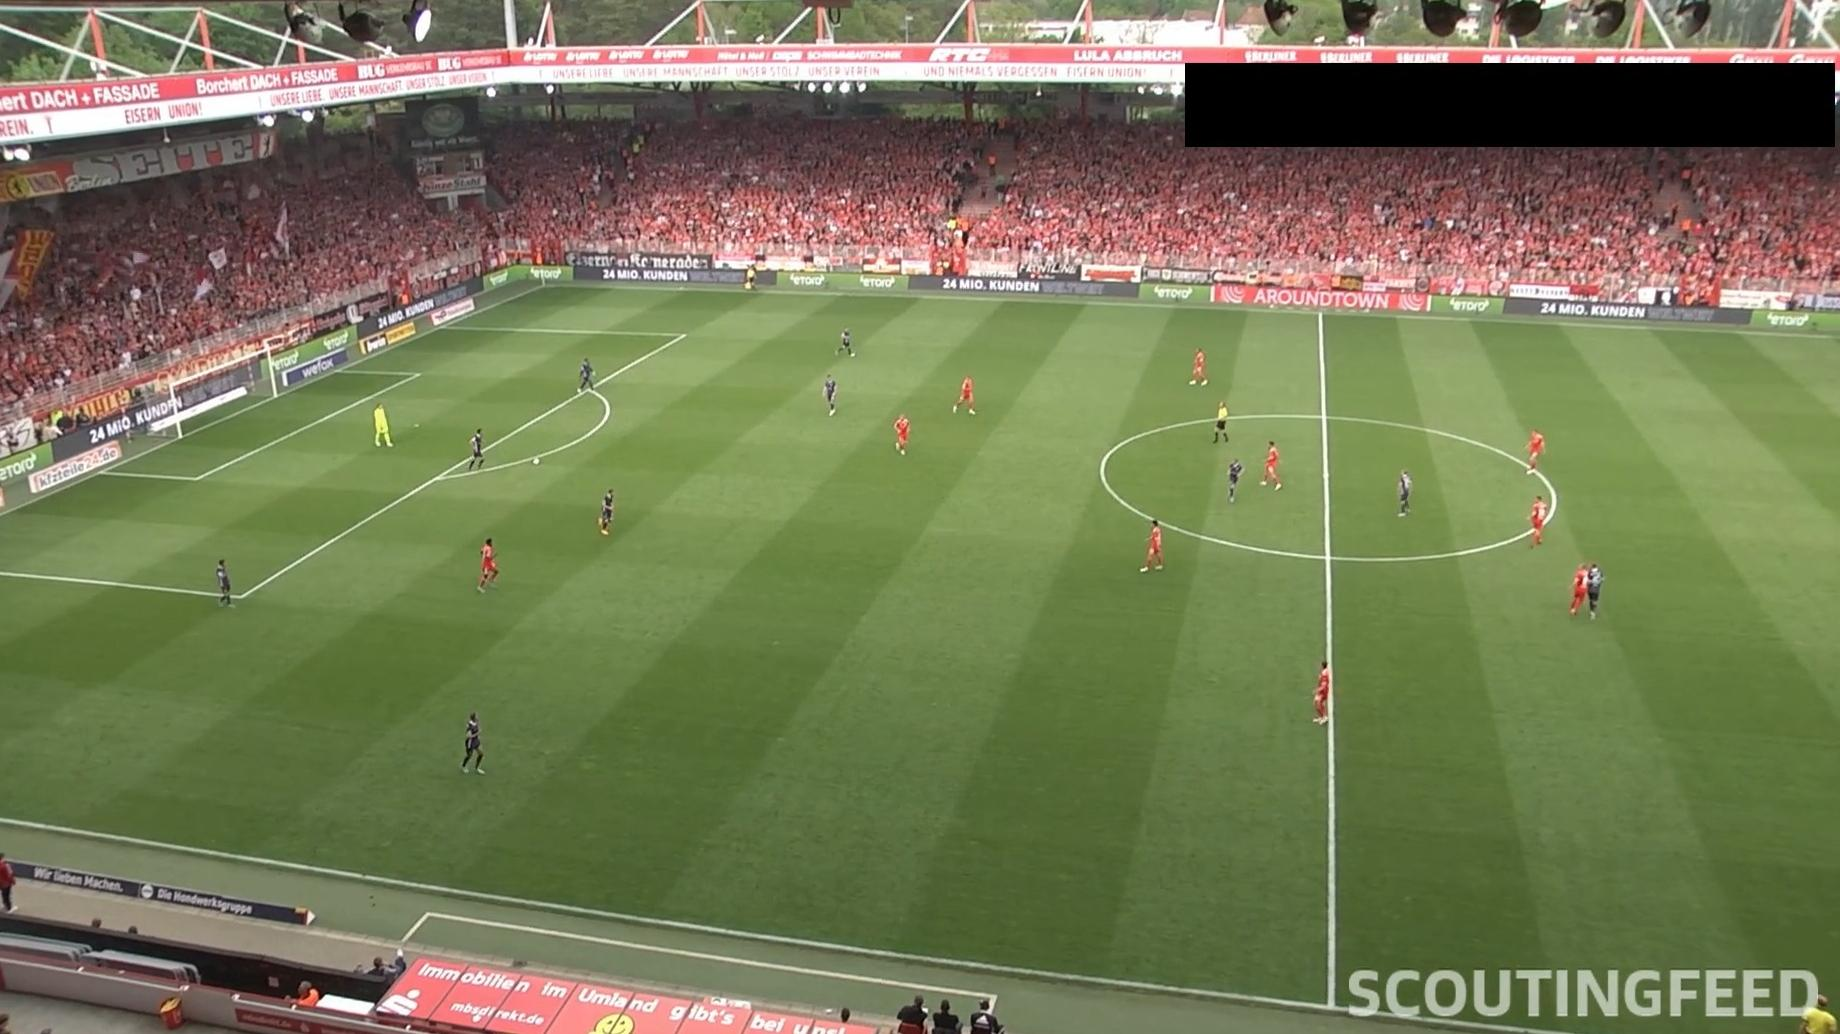ball: (532, 456, 541, 466)
